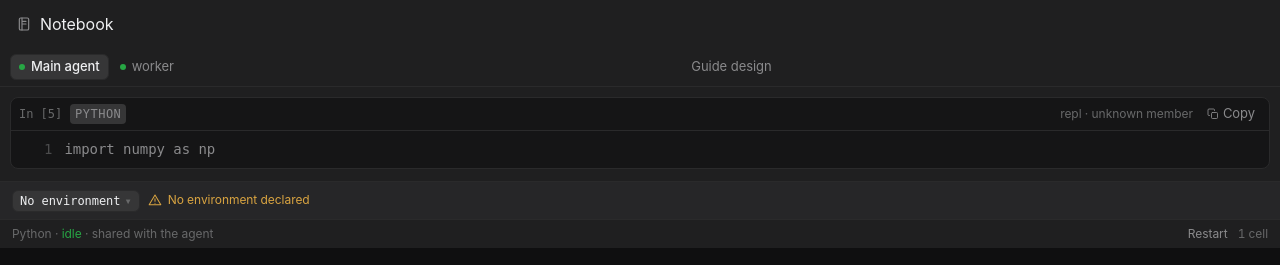
Test case: shows only the selected context's cells, and swaps them when the tab does
The width and height of the screenshot is (1280, 265).
Expected: the text "import numpy as np" is shown, [64,140,215,156]
Expected: the text "df <- read.csv('kinome.csv')" is not shown
Click the tab "worker" at (147,67), box [111,54,183,80]
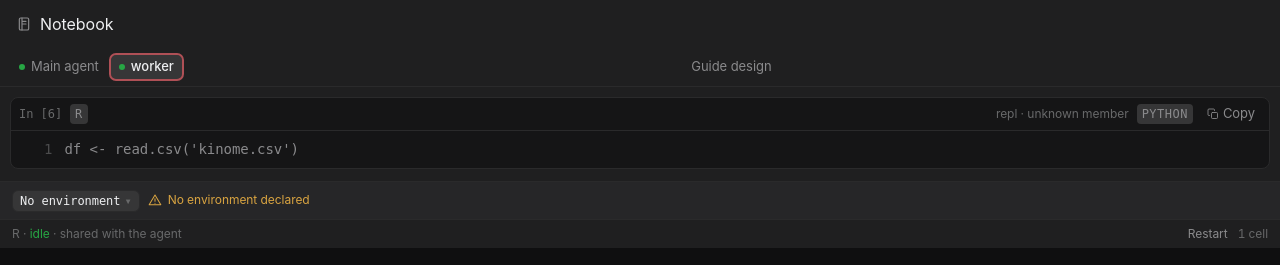
Expected: the text "df <- read.csv('kinome.csv')" is shown, [64,140,299,156]
Expected: the text "import numpy as np" is gone
